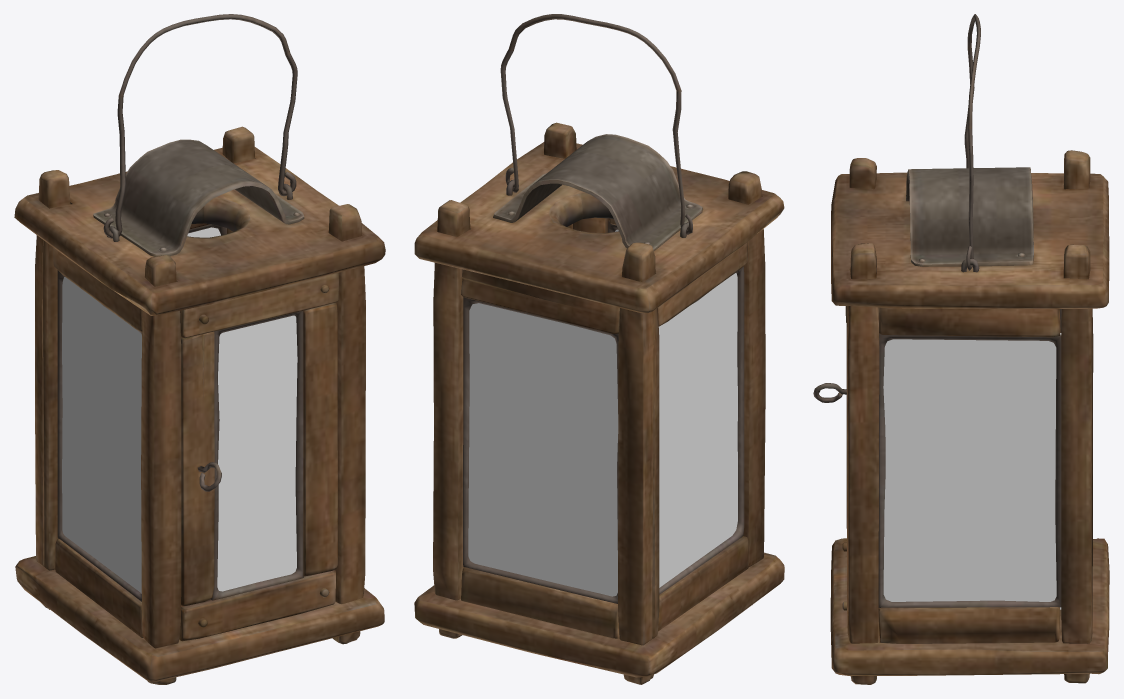
The model's file is wooden_lantern_01.glb.
3 renders of one model, left to right at view 1: azimuth 30°, elevation 25°; view 2: azimuth 150°, elevation 25°; view 3: azimuth 270°, elevation 25°, orthographic.
Parts seen in each view (by area): view 1: wooden_lantern_01_0, wooden_lantern_01_door_0, wooden_lantern_01_1, wooden_lantern_01_door_1, wooden_lantern_01_handle_0; view 2: wooden_lantern_01_0, wooden_lantern_01_1, wooden_lantern_01_handle_0, wooden_lantern_01_door_0; view 3: wooden_lantern_01_0, wooden_lantern_01_1, wooden_lantern_01_handle_0, wooden_lantern_01_door_0.
Part boxes in pixels (bbox=[...]): wooden_lantern_01_0: bbox=[14, 126, 385, 684]; wooden_lantern_01_door_0: bbox=[179, 272, 339, 641]; wooden_lantern_01_1: bbox=[62, 227, 220, 593]; wooden_lantern_01_door_1: bbox=[217, 315, 297, 591]; wooden_lantern_01_handle_0: bbox=[103, 14, 297, 238]; wooden_lantern_01_0: bbox=[414, 122, 784, 684]; wooden_lantern_01_1: bbox=[468, 273, 737, 596]; wooden_lantern_01_handle_0: bbox=[500, 14, 692, 234]; wooden_lantern_01_door_0: bbox=[573, 217, 617, 233]; wooden_lantern_01_0: bbox=[830, 150, 1109, 684]; wooden_lantern_01_1: bbox=[883, 333, 1061, 609]; wooden_lantern_01_handle_0: bbox=[964, 14, 980, 270]; wooden_lantern_01_door_0: bbox=[813, 306, 847, 610].
Bounding box in the file's own units: 0.221 × 0.5301 × 0.2347.
2 materials, 1 textured.
